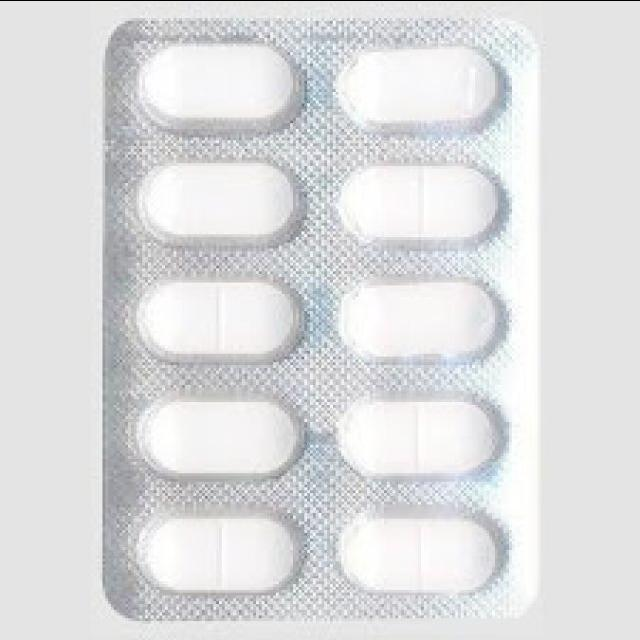authentic: (91, 0, 543, 634)
